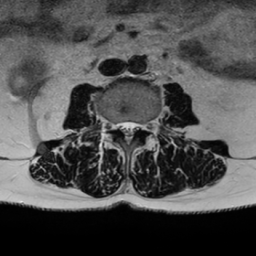CCS_normal: (124, 112, 131, 150)
LFS_stenosis: (140, 115, 149, 137)
LLS_normal: (131, 114, 140, 139)
RFS_stenosis: (108, 113, 116, 137)
RLS_normal: (116, 113, 124, 140)
